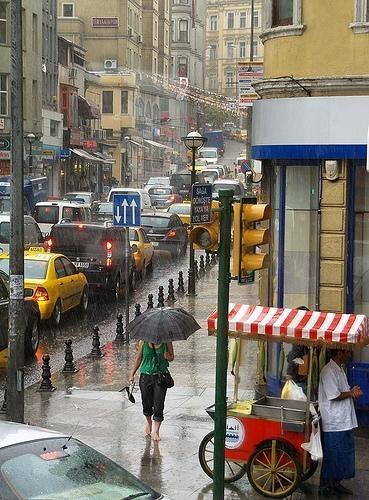car: (2, 418, 168, 495), (44, 217, 138, 304), (0, 247, 90, 328), (34, 202, 94, 244), (140, 211, 192, 255), (0, 214, 47, 254), (130, 226, 156, 280), (146, 186, 181, 209), (61, 190, 101, 210), (170, 174, 200, 199), (213, 177, 246, 197), (167, 201, 190, 226), (186, 159, 208, 175)
truck: (94, 187, 163, 222), (204, 129, 224, 156), (198, 148, 218, 164)
